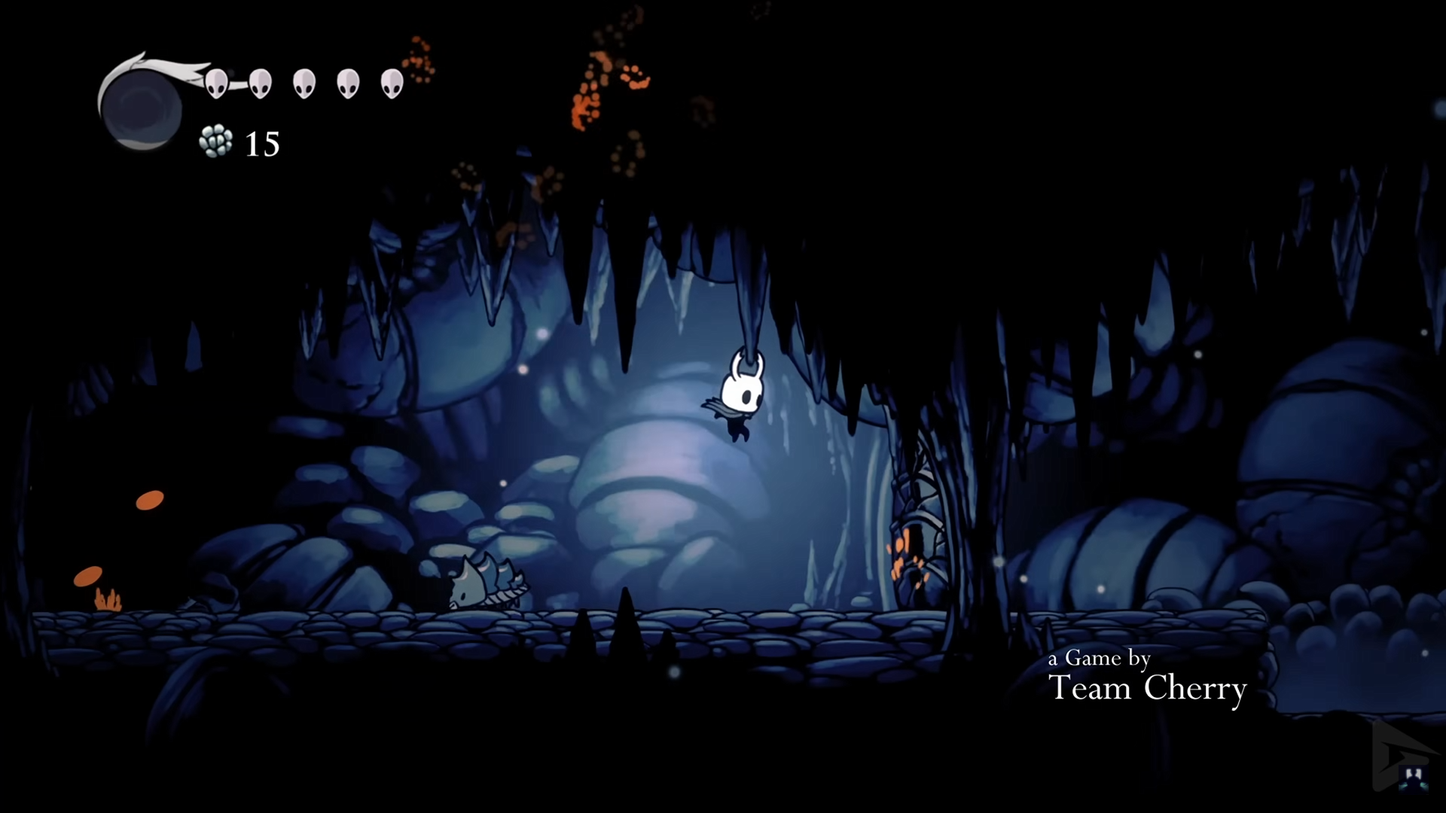HK: (708, 346, 770, 446)
